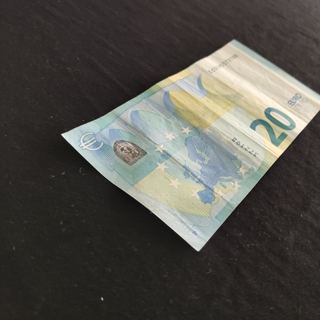20EUROBack: (60, 38, 320, 252)
